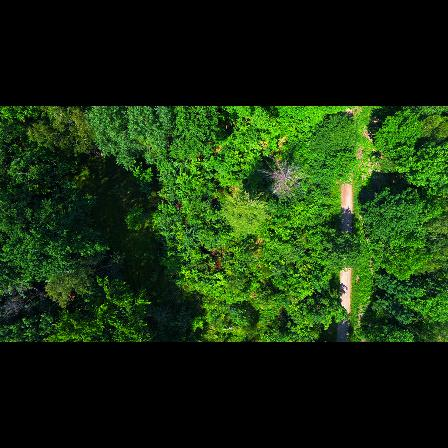Dead: (258, 148, 304, 201)
